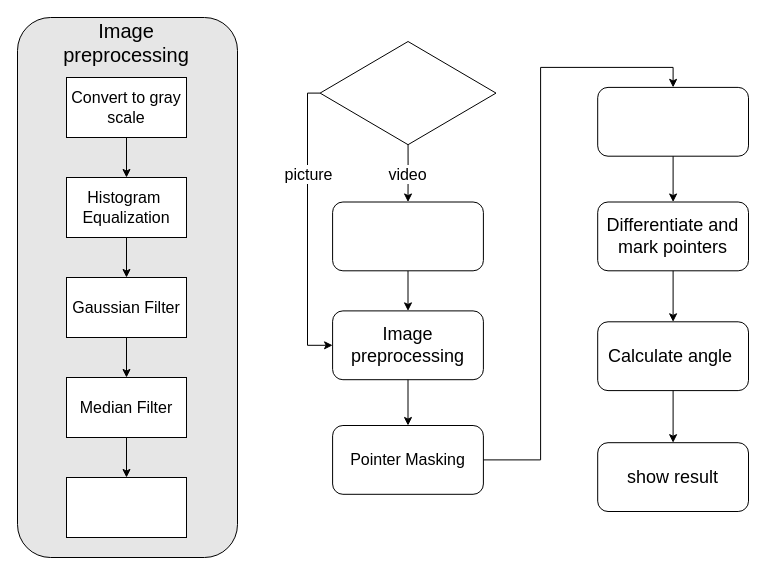
This 766x575 diagram has some shape labels left out. The shapes that lost their labels are listed below. From the top down, each one's box as (x1, y1, x2, y2) in pixels, then its label:
(319, 40, 496, 145): video or picture
(597, 86, 748, 156): HoughLine detection
(332, 201, 483, 271): object detection
(66, 476, 186, 538): Binary image
